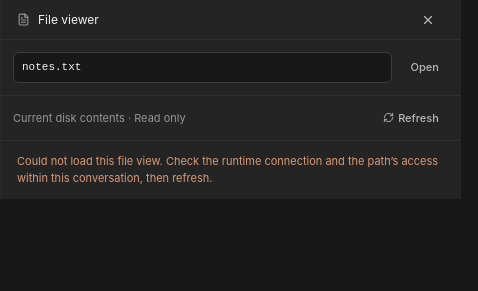
Test: FilePanel › retries transport failures without touching the draft
Expected: the message shows "Could not load", top-left (17, 154), bottom-right (438, 185)
Click the button "Refresh" at (411, 118), box top-left (373, 104), bottom-right (449, 132)
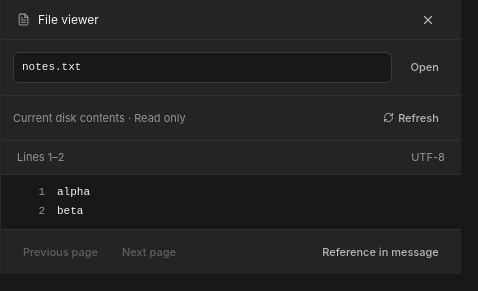
Expected: the text "alpha" is shown, top-left (57, 186), bottom-right (90, 198)
